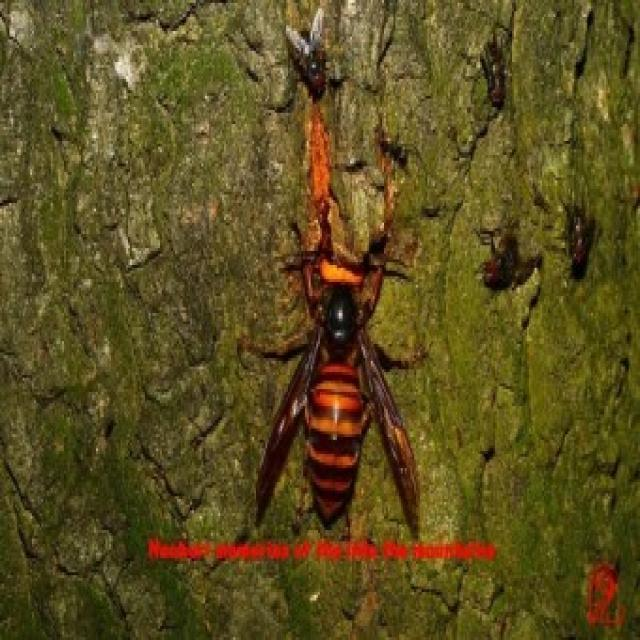Wasp: (263, 187, 425, 526)
